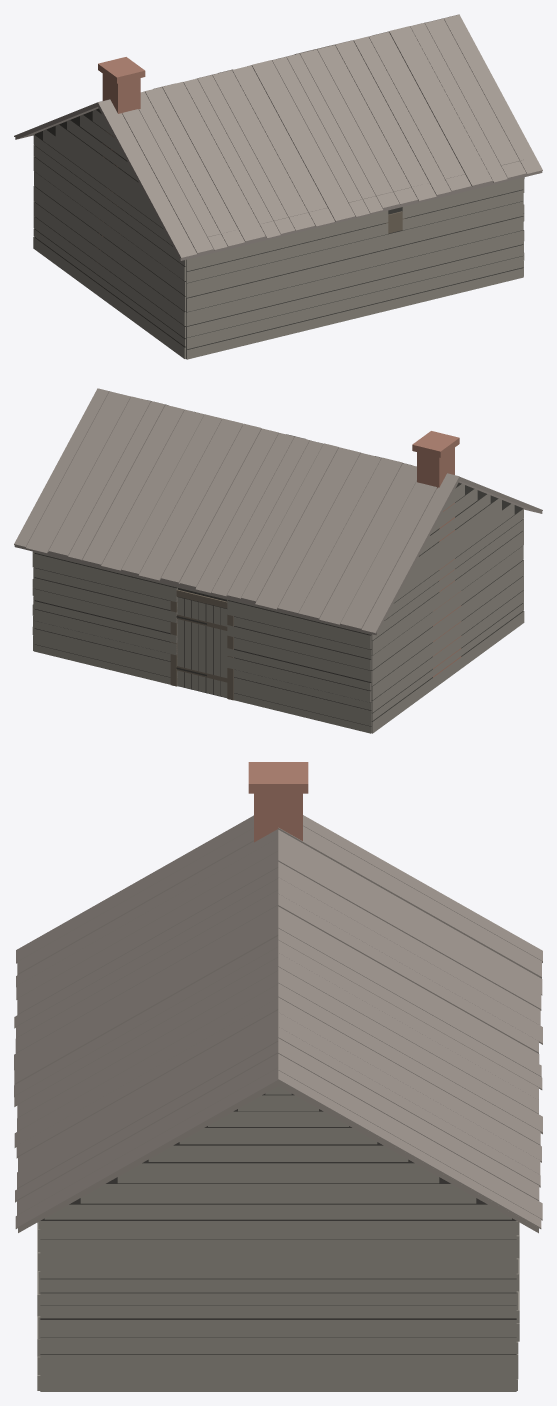
Rendered from pierce_blacksmith_shop__shop_1833.glb.
The picture shows the model from 3 angles, top to bottom: view 1: azimuth 30°, elevation 25°; view 2: azimuth 150°, elevation 25°; view 3: azimuth 270°, elevation 25°; orthographic projection. The views are drawn at different scales.
Visible parts, largest first — view 1: pierce_blacksmith_shop__shop_1833; view 2: pierce_blacksmith_shop__shop_1833; view 3: pierce_blacksmith_shop__shop_1833.
Part boxes in pixels (x1,y1,x2,y2): pierce_blacksmith_shop__shop_1833: (14,14,542,359); pierce_blacksmith_shop__shop_1833: (14,388,542,733); pierce_blacksmith_shop__shop_1833: (14,762,542,1391).
Size of the model in its own units: 9.66 by 5.97 by 7.78.
